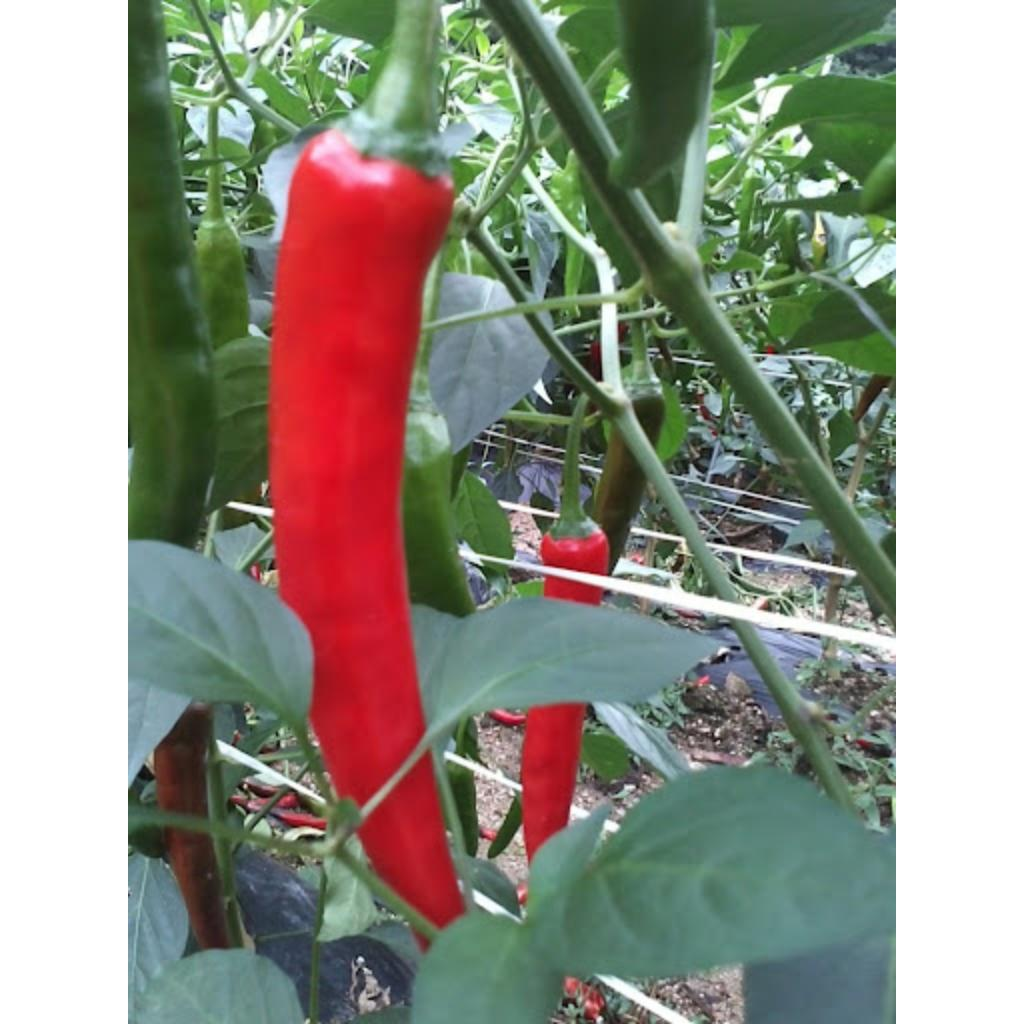chili: (270, 130, 454, 803), (358, 754, 464, 925), (522, 704, 583, 859)
